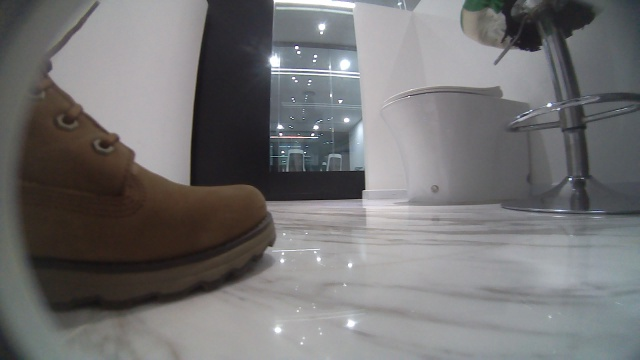toilet: (377, 85, 536, 209)
